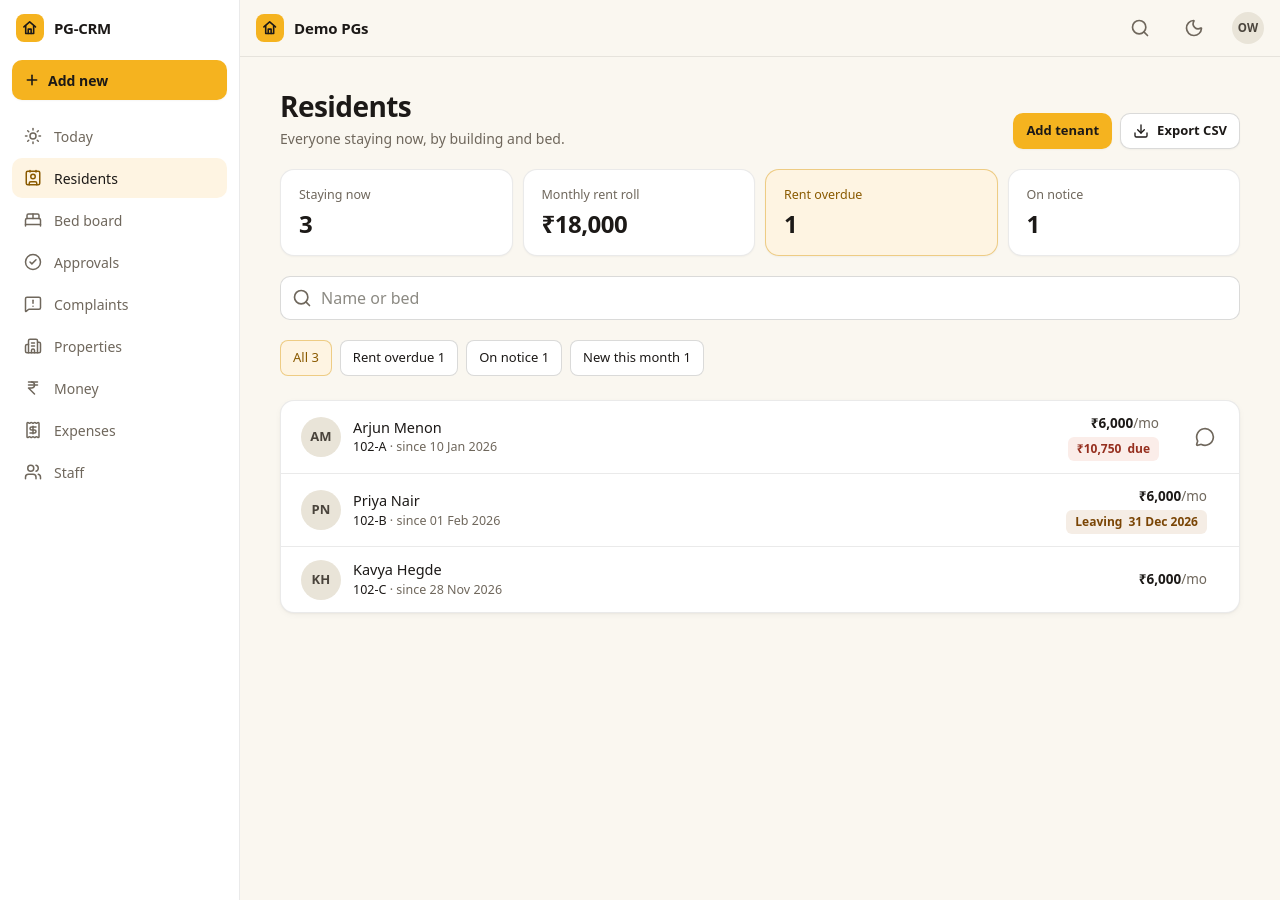
Test: Residents directory › lists everyone staying with rent roll, and filters by overdue, notice, new and name
Expected: the number of list items is 3, [281,401,1239,474]; [281,474,1239,547]; [281,547,1239,612]
Expected: the text "₹18,000" is shown, [542,207,627,240]
Step 1. Click the button "Rent overdue 1" → (399, 358), box [340,340,458,376]
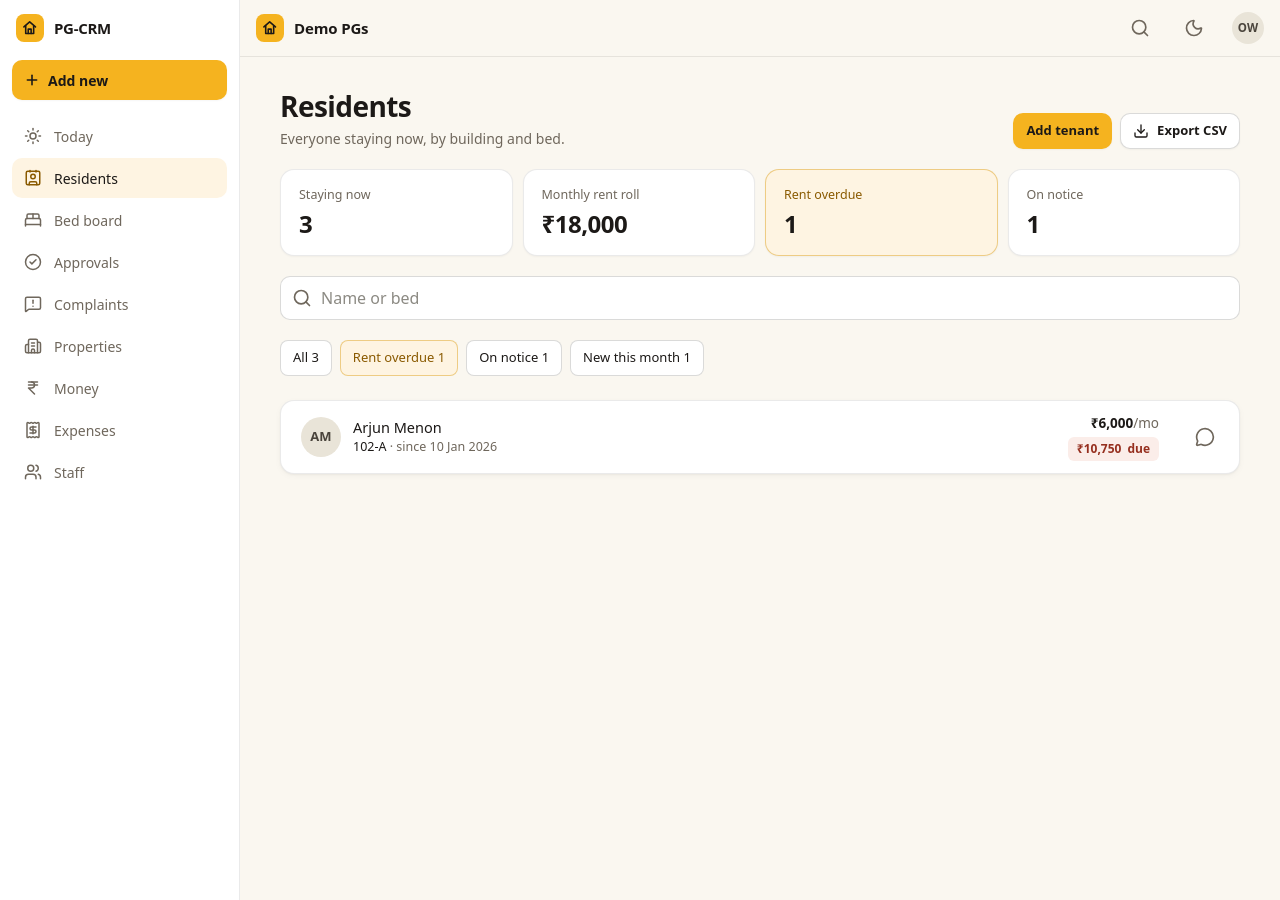
Expected: the text "Arjun Menon" is shown, [353,417,442,437]
Expected: the number of list items is 1, [281,401,1239,473]
Step 2. Click the button "On notice 1" → (514, 358), box [466,340,562,376]
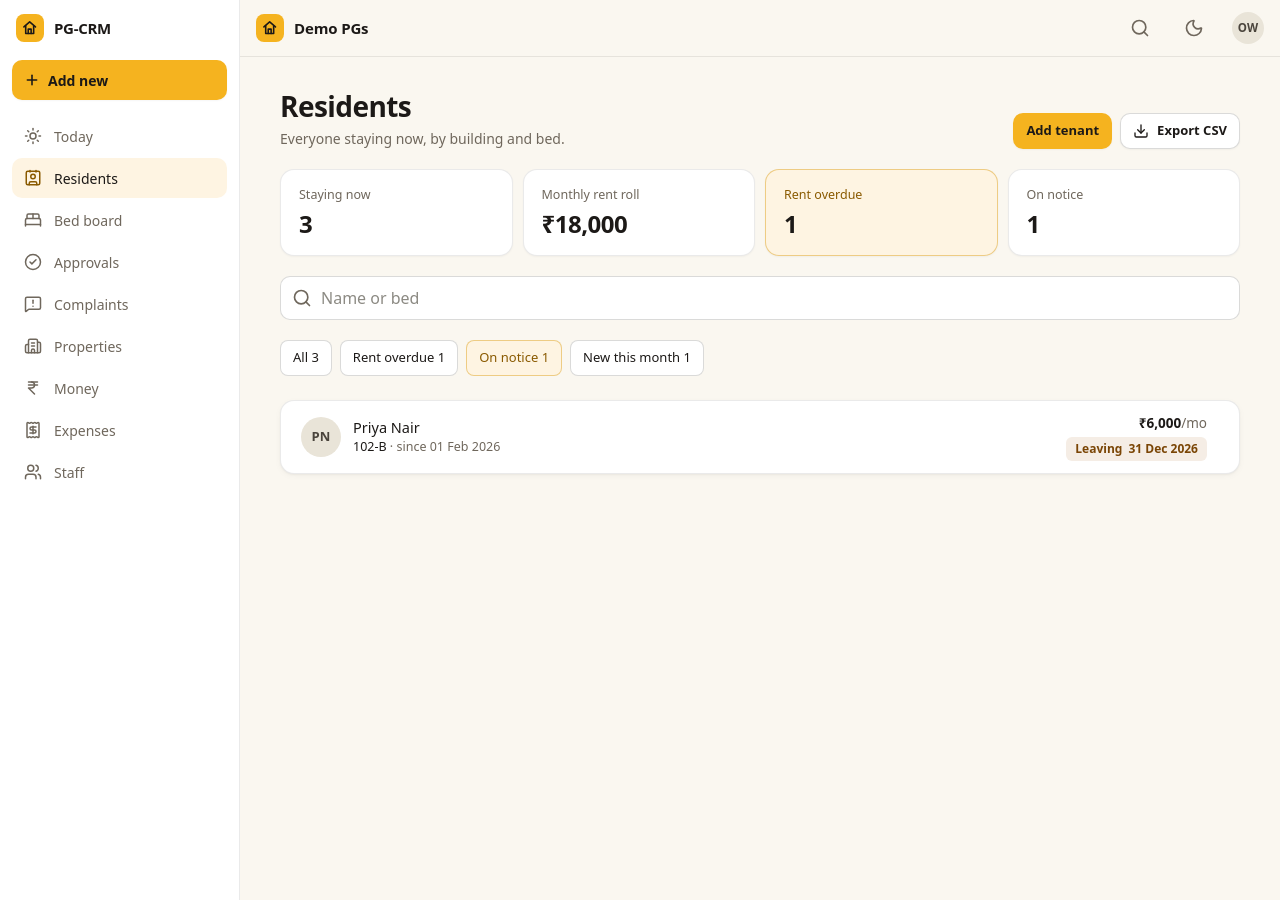
Expected: the text "Priya Nair" is shown, [353,417,420,437]
Step 3. Click the button "New this month 1" → (637, 358), box [570,340,704,376]
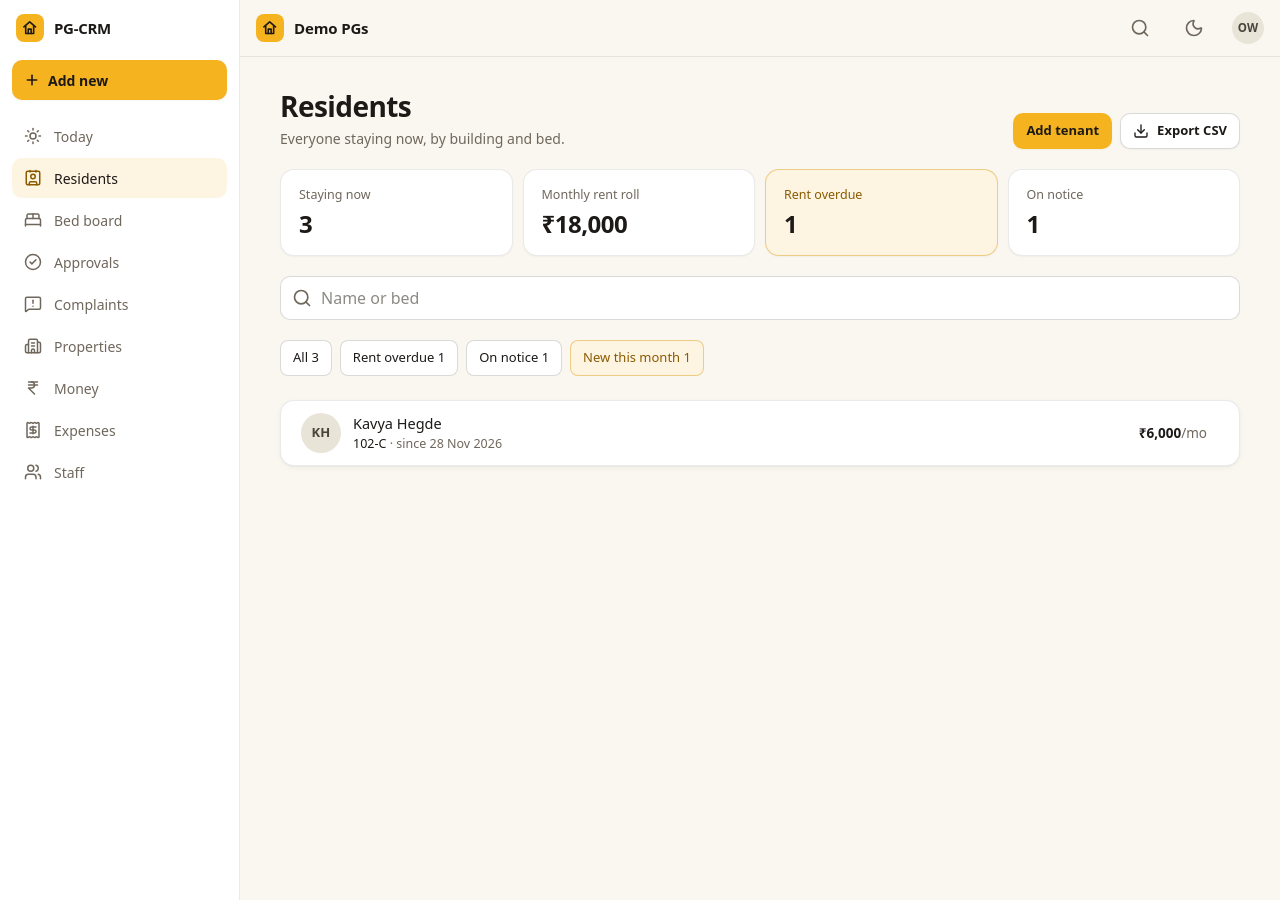
Expected: the text "Kavya Hegde" is shown, [353,413,442,433]
Step 4. Click the button "All 3" → (306, 358), box [280,340,332,376]
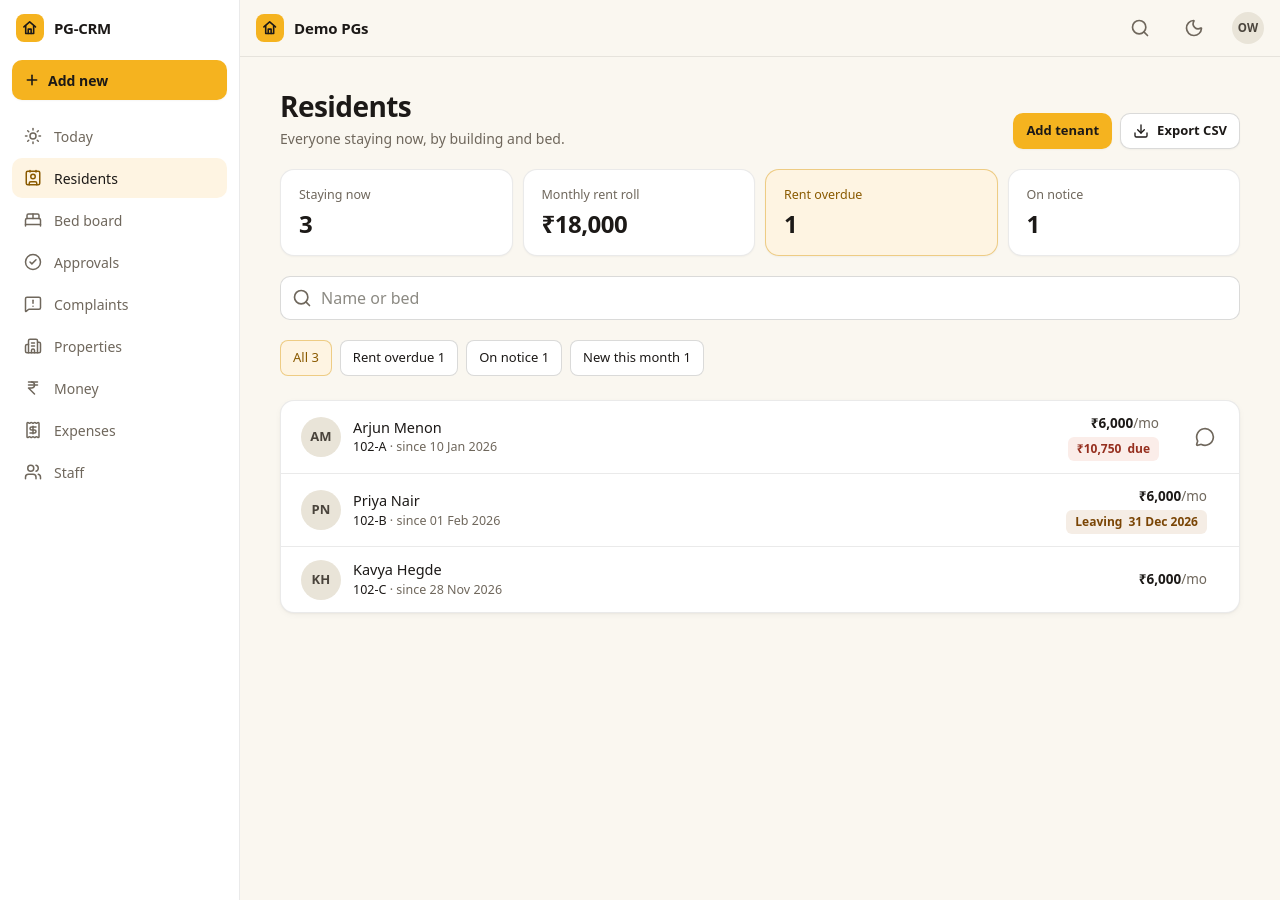
Step 5. Type "102-b" into the search field named "Filter residents by name or bed" → (760, 298), box [280,276,1240,320]
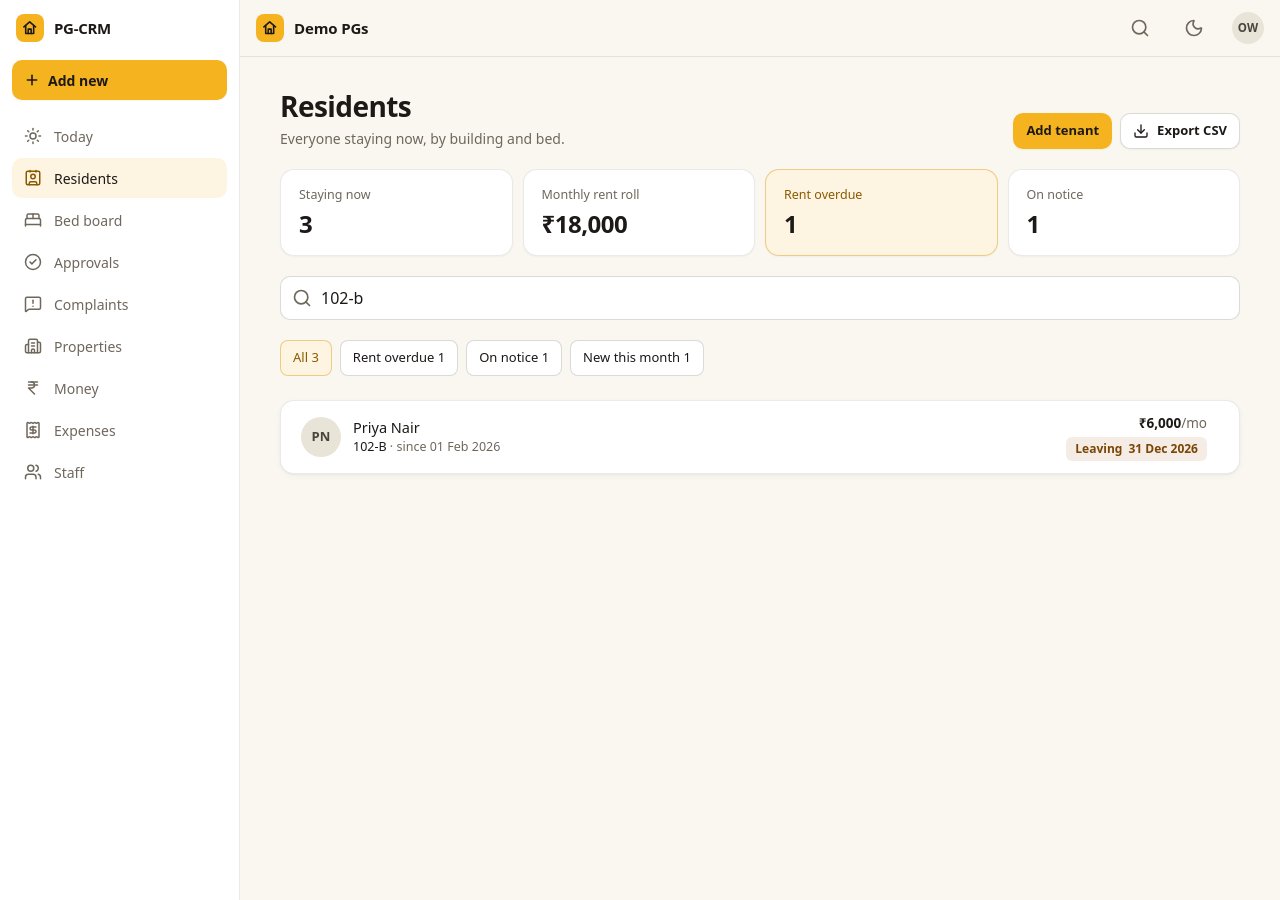
Expected: the text "Priya Nair" is shown, [353,417,420,437]
Expected: the number of list items is 1, [281,401,1239,473]
